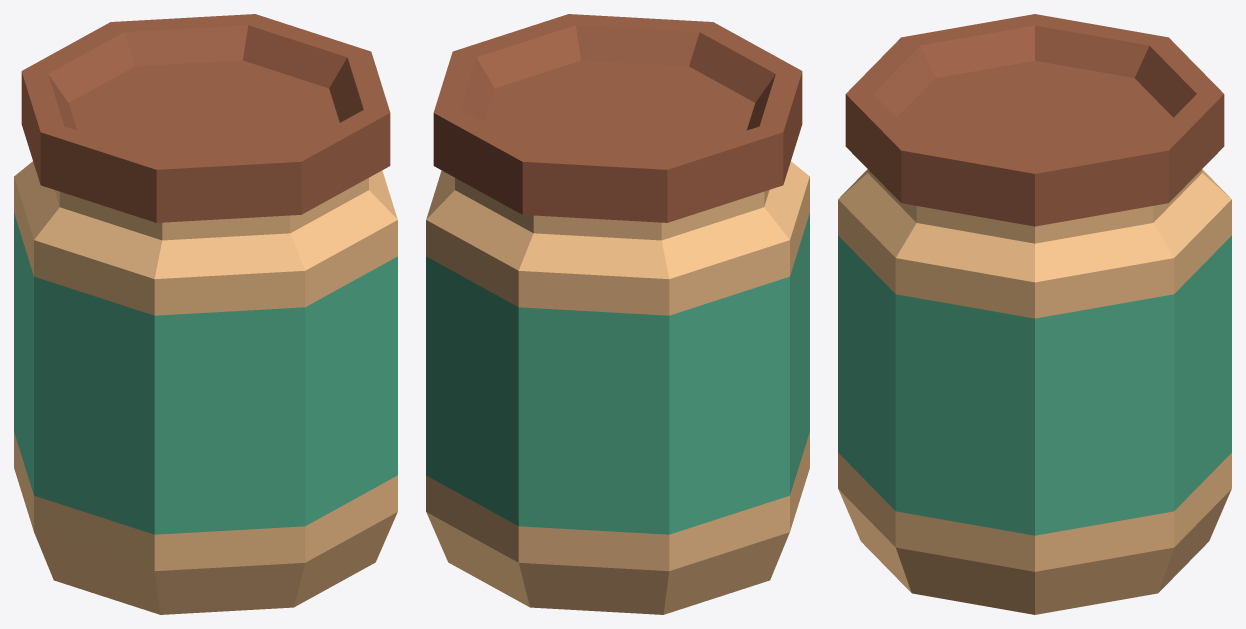
Rendered from peanutButter.fbx.
3 views of the same model, side by side, from view 1: azimuth 30°, elevation 25°; view 2: azimuth 150°, elevation 25°; view 3: azimuth 270°, elevation 25° (orthographic).
Parts seen in each view (by area): view 1: peanutButter; view 2: peanutButter; view 3: peanutButter.
Boxes of the visible parts, bbox=[...] form: peanutButter: bbox=[14, 14, 397, 614]; peanutButter: bbox=[426, 14, 809, 614]; peanutButter: bbox=[838, 14, 1231, 614].
Size of the model in its own units: 2.36 by 2.96 by 2.36.
